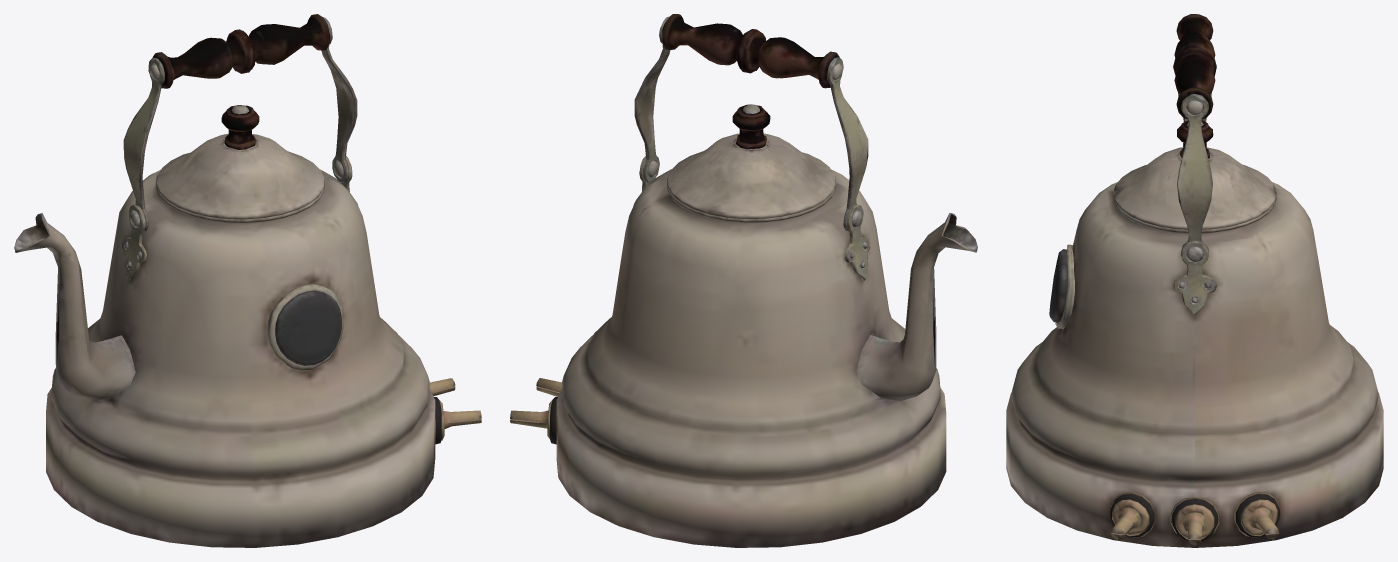
File: p_vintage_electric_kettle.glb
The picture shows the model from 3 angles, left to right: view 1: azimuth 30°, elevation 25°; view 2: azimuth 150°, elevation 25°; view 3: azimuth 270°, elevation 25°; orthographic projection. The views are drawn at different scales.
Parts seen in each view (by area): view 1: vintage_electric_kettle; view 2: vintage_electric_kettle; view 3: vintage_electric_kettle.
Boxes of the visible parts, box(x1,y1,x2,y2) form: vintage_electric_kettle: box(14, 14, 481, 547); vintage_electric_kettle: box(510, 14, 977, 547); vintage_electric_kettle: box(1006, 14, 1383, 547).
Bounding box in the file's own units: 0.3201 × 0.3044 × 0.2478.
Materials: 2 (2 with a texture image).
